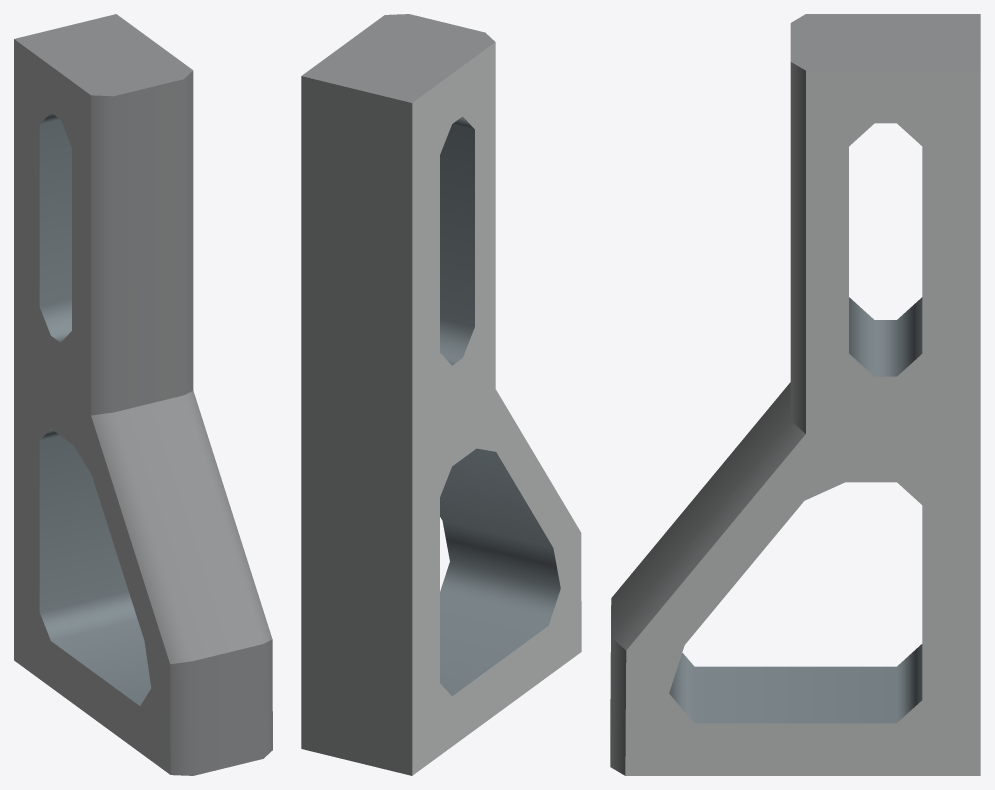
Rendered from Short_column_001.glb.
3 views of the same model, side by side, from view 1: azimuth 30°, elevation 25°; view 2: azimuth 150°, elevation 25°; view 3: azimuth 270°, elevation 25° (orthographic). The views are drawn at different scales.
Visible parts, largest first — view 1: Short_column_001; view 2: Short_column_001; view 3: Short_column_001.
Boxes of the visible parts, x1,y1,x2,y2 form: Short_column_001: [14, 14, 272, 775]; Short_column_001: [301, 14, 581, 775]; Short_column_001: [610, 14, 980, 775].
Size of the model in its own units: 0.2241 by 1.3 by 0.6188.
1 material, 1 textured.
